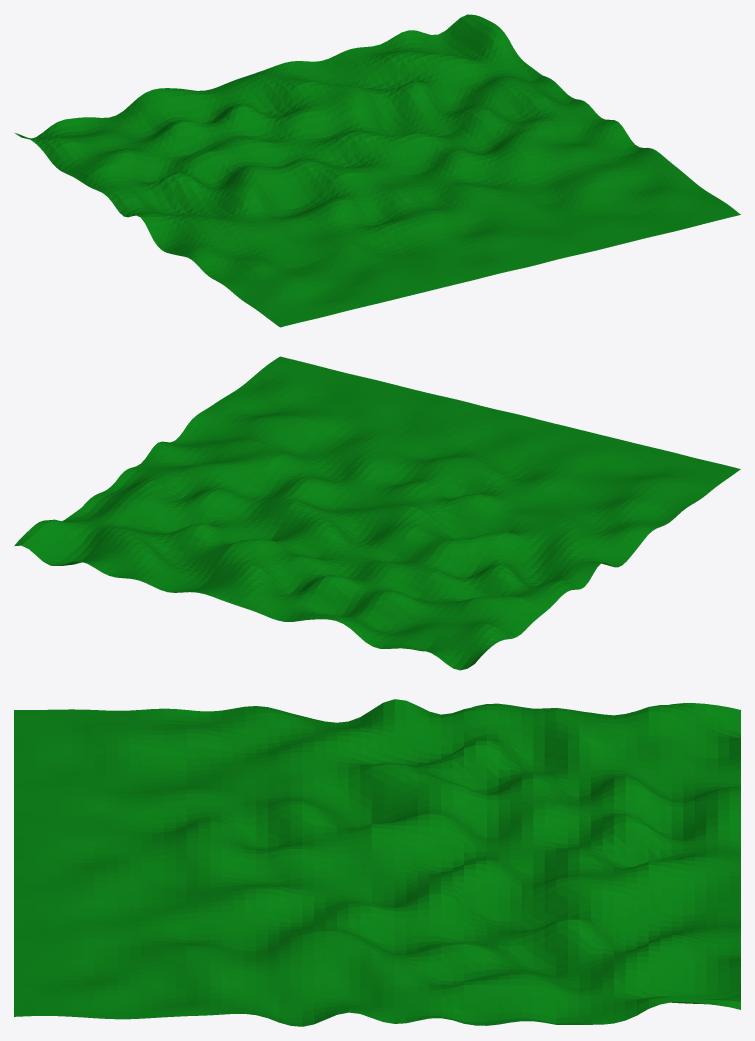
File: ground.obj
3 views of the same model, one above another, from view 1: azimuth 30°, elevation 25°; view 2: azimuth 150°, elevation 25°; view 3: azimuth 270°, elevation 25° (orthographic). The views are drawn at different scales.
Visible parts, largest first — view 1: Ground; view 2: Ground; view 3: Ground.
Part boxes in pixels (left/top/right/bottom): Ground: left=15, top=14, right=740, bottom=327; Ground: left=14, top=356, right=740, bottom=670; Ground: left=14, top=699, right=740, bottom=1026.
Size of the model in its own units: 15.75 by 0.8034 by 15.75.
1 material, 1 textured.
